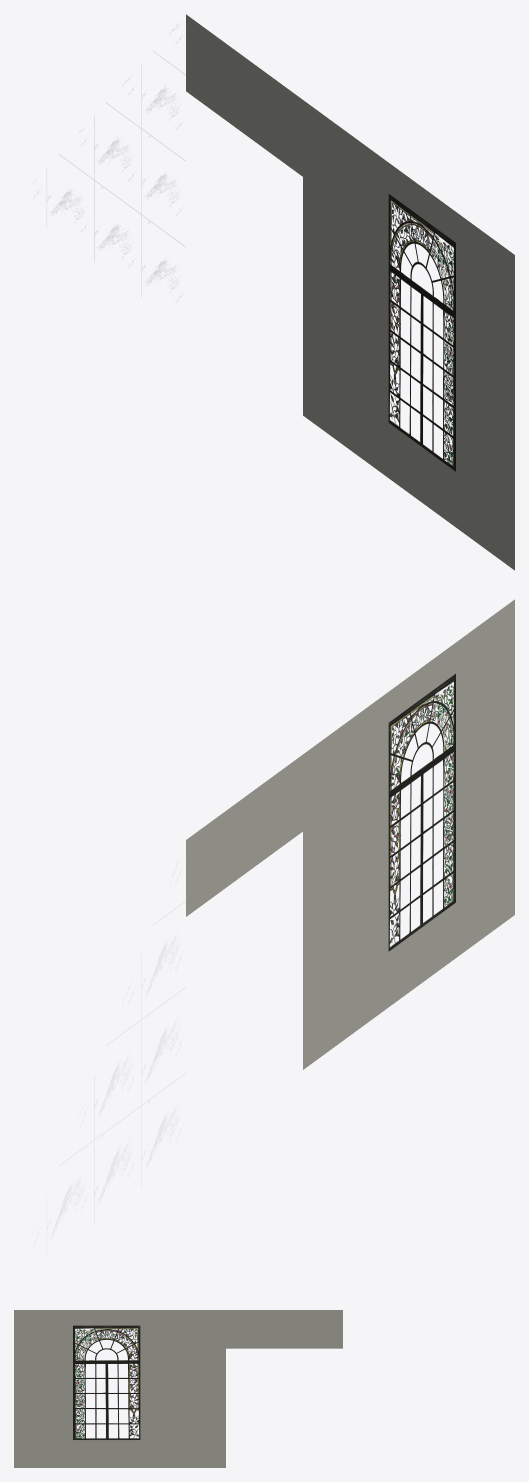
Rendered from A_axis_collider_2.glb.
3 views of the same model, one above another, from view 1: azimuth 30°, elevation 25°; view 2: azimuth 150°, elevation 25°; view 3: azimuth 270°, elevation 25° (orthographic). The views are drawn at different scales.
Parts seen in each view (by area): view 1: venue.001; view 2: venue.001; view 3: venue.001.
Boxes of the visible parts, x1,y1,x2,y2 form: venue.001: (38,14,514,570); venue.001: (59,599,514,1215); venue.001: (14,1310,342,1467).
Bounding box in the file's own units: 9.54e-07 × 4.96 × 14.27.
Materials: 2 (2 with a texture image).
